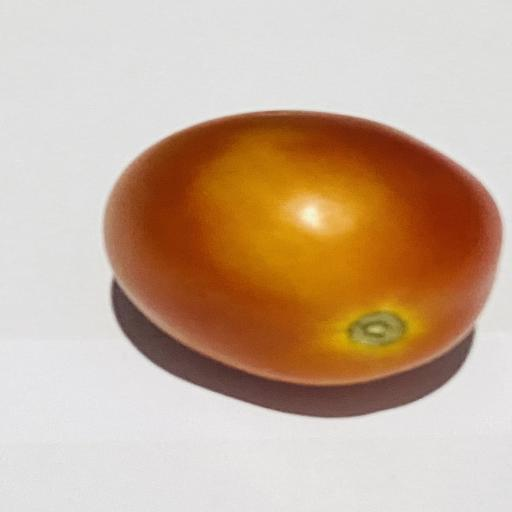ripe: (104, 111, 501, 385)
